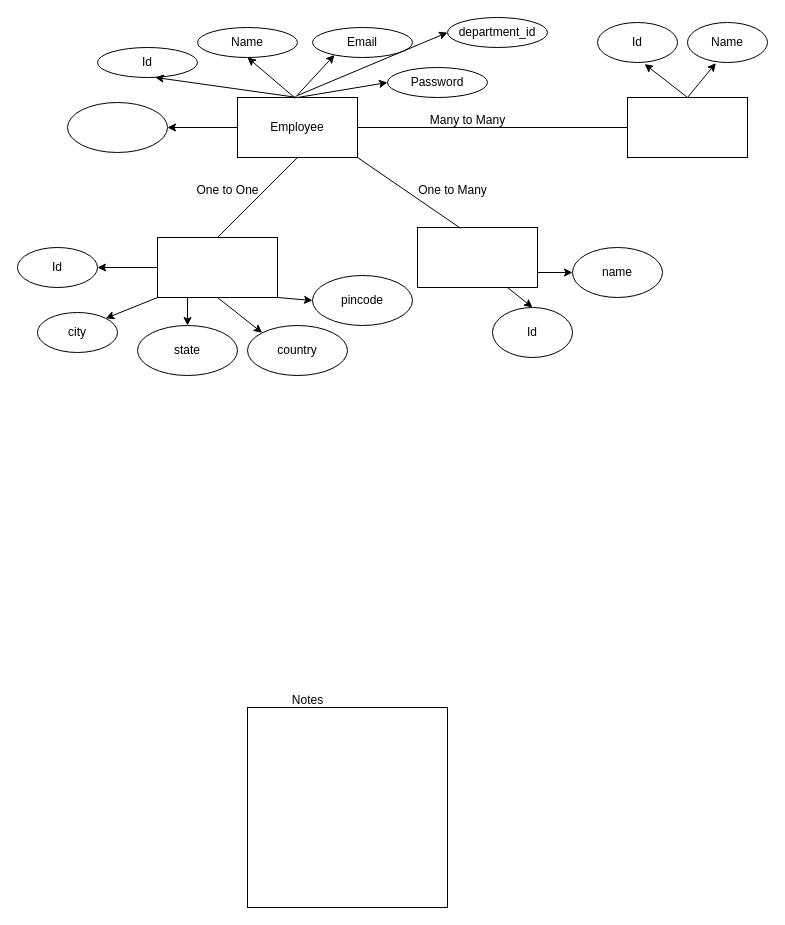
This 785x925 diagram has some shape labels left out. The shapes that lost their labels are listed below. From the top down, each one's box as (x1, y1, x2, y2) in pixels, then its label:
(66, 102, 168, 152): address_id
(626, 96, 748, 158): Projects
(156, 236, 278, 298): Address
(416, 226, 538, 288): Department
(246, 706, 448, 908): id title user_id 1 java 1 2 python 1 3 c# 2 4 python 2
